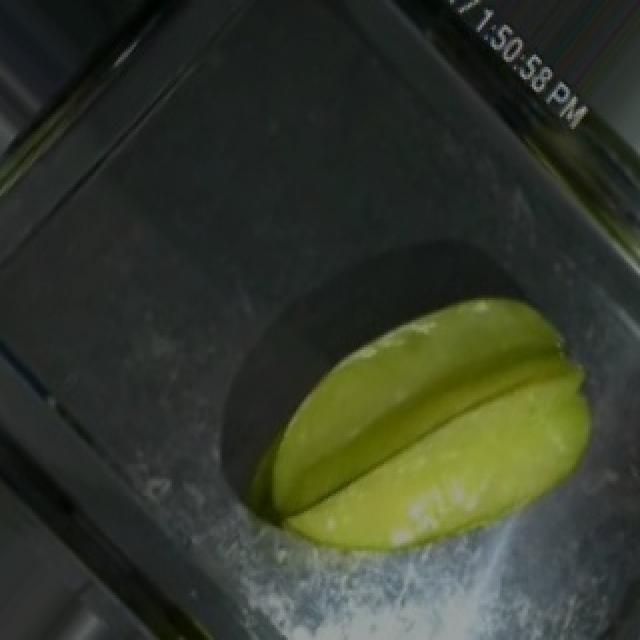fruit: (238, 238, 640, 605)
